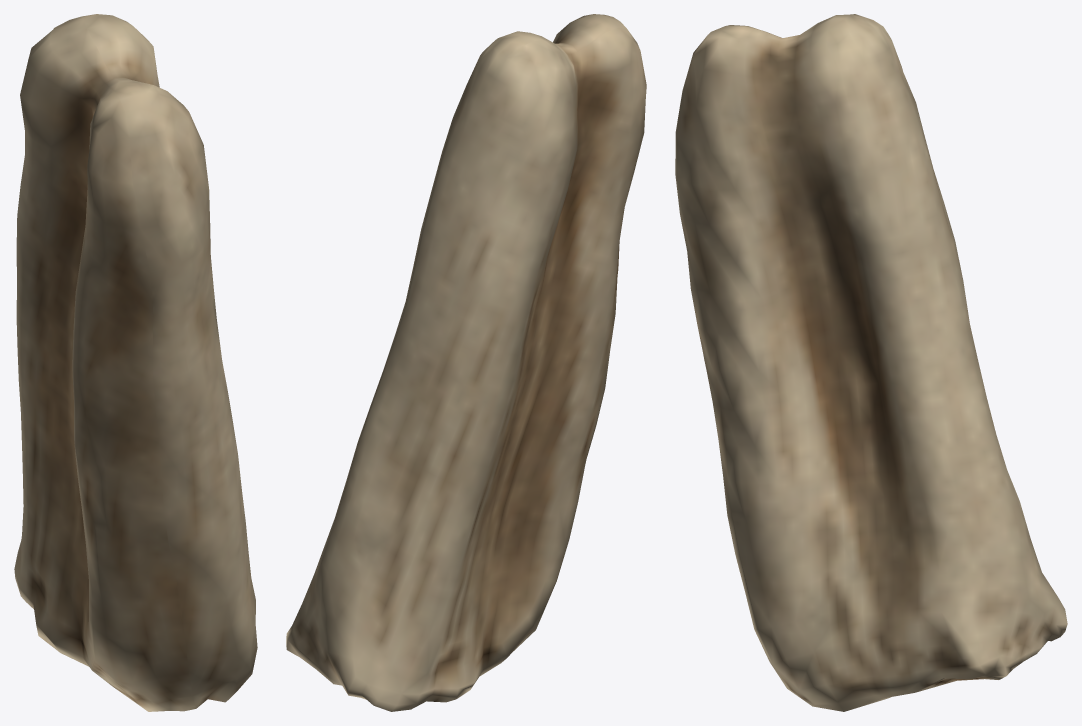
The model's file is Maxilary_Premolar3.glb.
3 renders of one model, left to right at view 1: azimuth 30°, elevation 25°; view 2: azimuth 150°, elevation 25°; view 3: azimuth 270°, elevation 25°, orthographic. The views are drawn at different scales.
Visible parts, largest first — view 1: Group2340_Mesh.069; view 2: Group2340_Mesh.069; view 3: Group2340_Mesh.069.
Boxes of the visible parts, x1=… form: Group2340_Mesh.069: x1=14, y1=14, x2=257, y2=711; Group2340_Mesh.069: x1=286, y1=14, x2=646, y2=711; Group2340_Mesh.069: x1=675, y1=14, x2=1067, y2=711.
Bounding box in the file's own units: 0.0275 × 0.0761 × 0.0422.
1 material, 1 textured.
